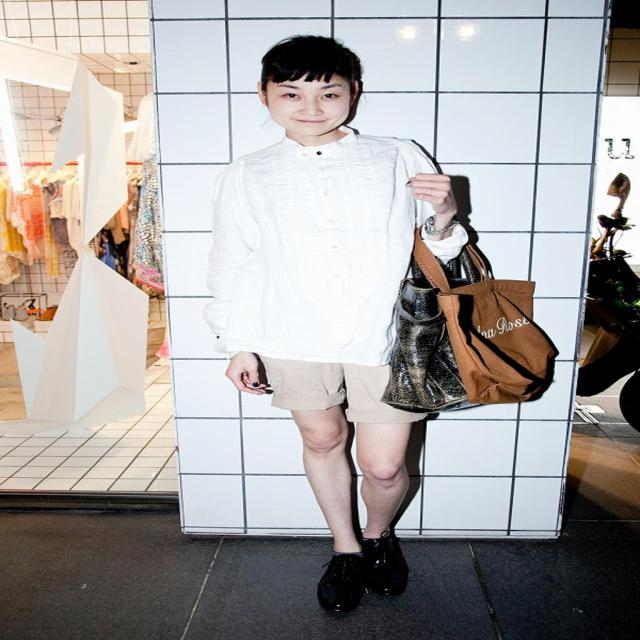nomask: (276, 71, 346, 140)
